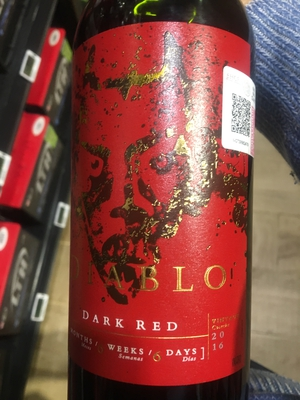diablo dark red: (71, 8, 256, 400)
